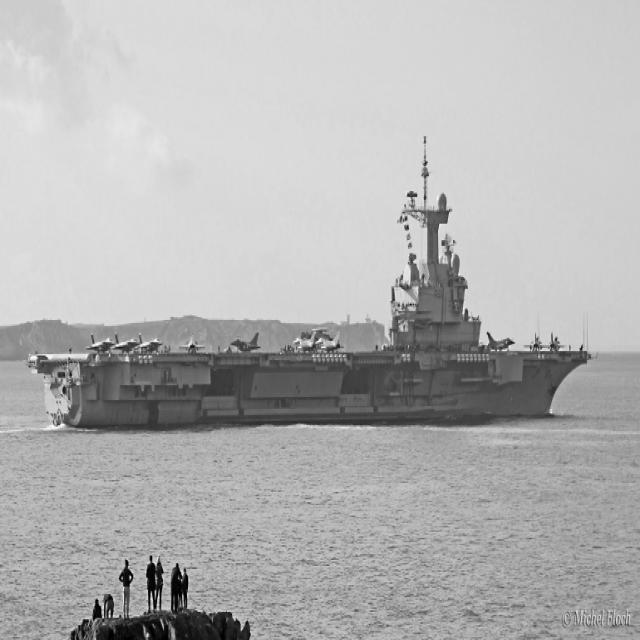Portanaves: (28, 129, 598, 437)
